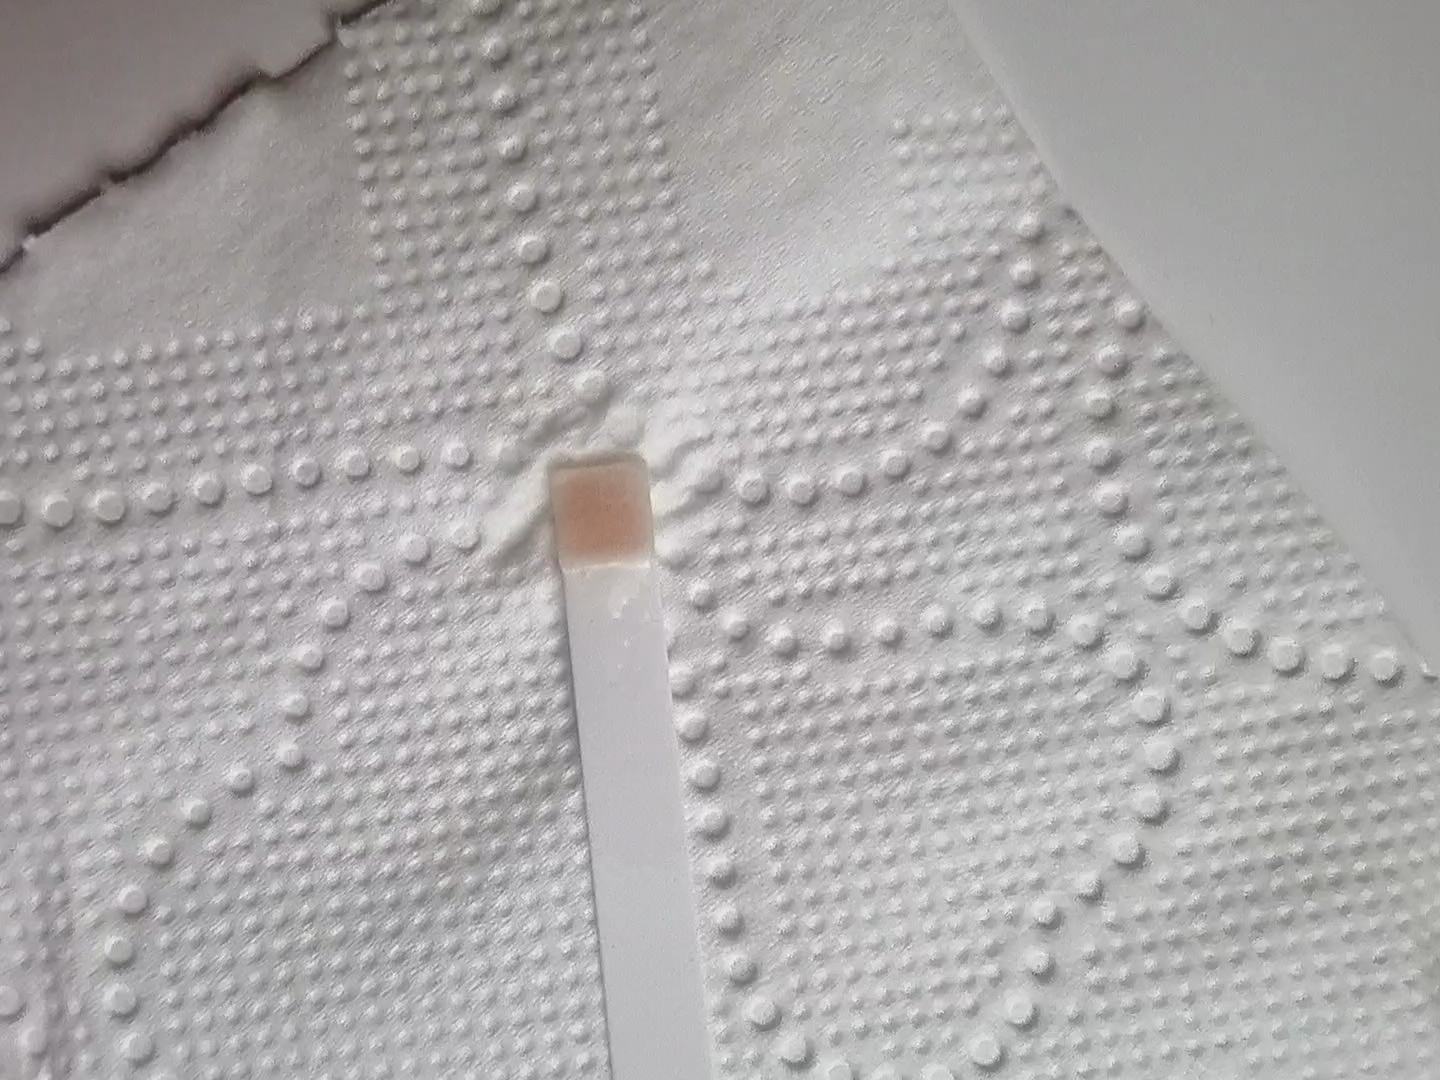keto-tip: (542, 452, 664, 576)
